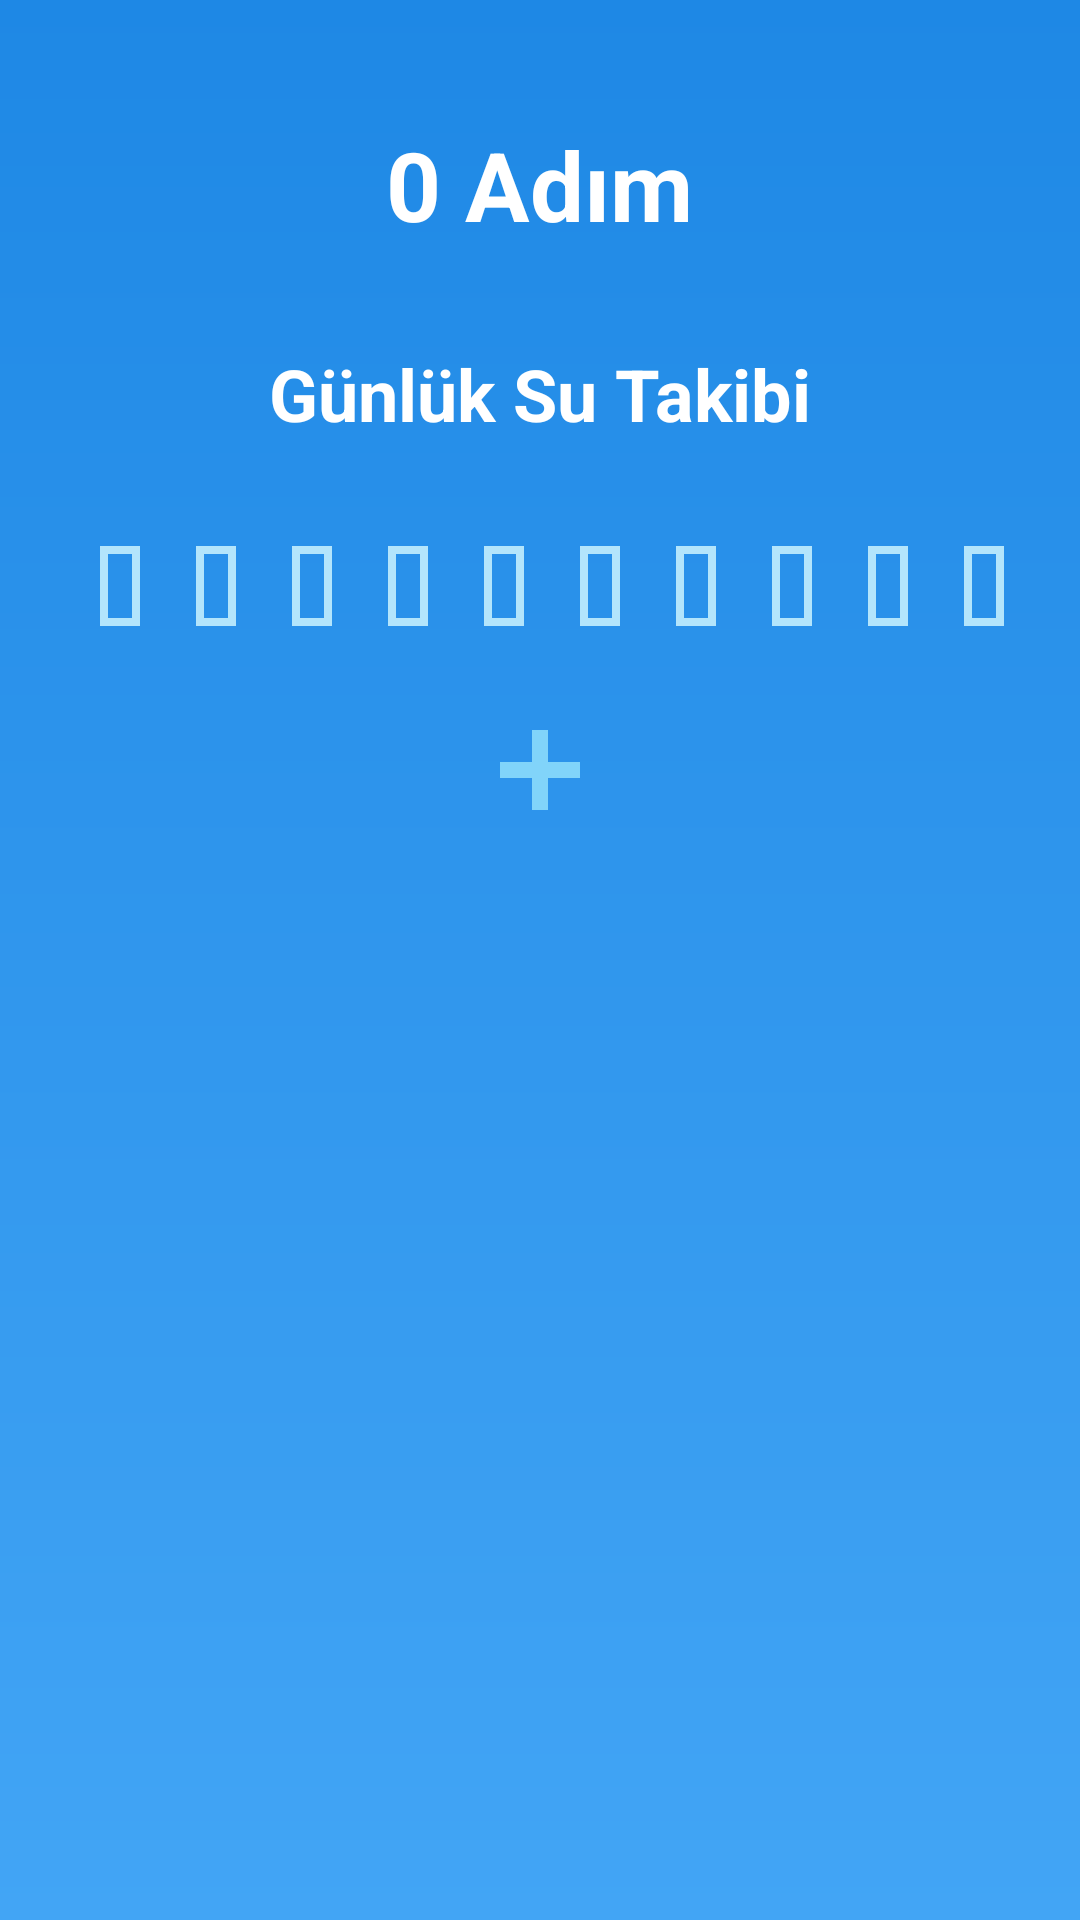

Locate icon controls on the screen. Image size 1080×1920, boxes as bbox=[x1, y1, x2, y2].
Su Ekle: bbox=[500, 730, 580, 810]
